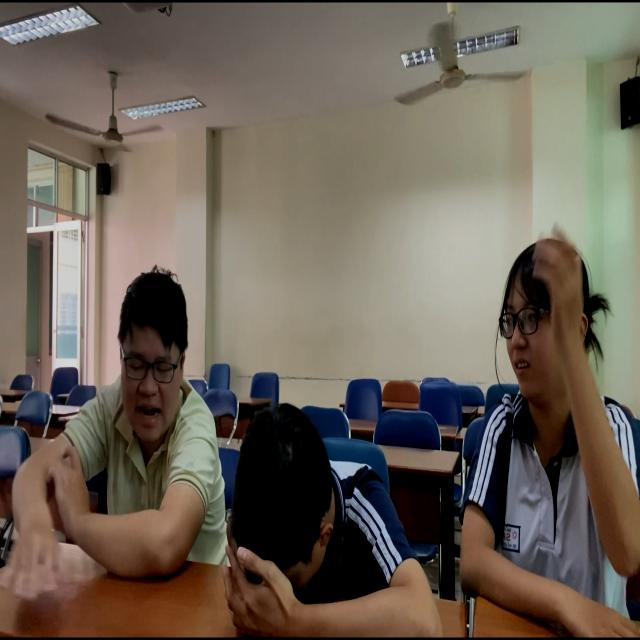raise_hand: (463, 224, 640, 640)
sleep: (214, 406, 446, 640)
